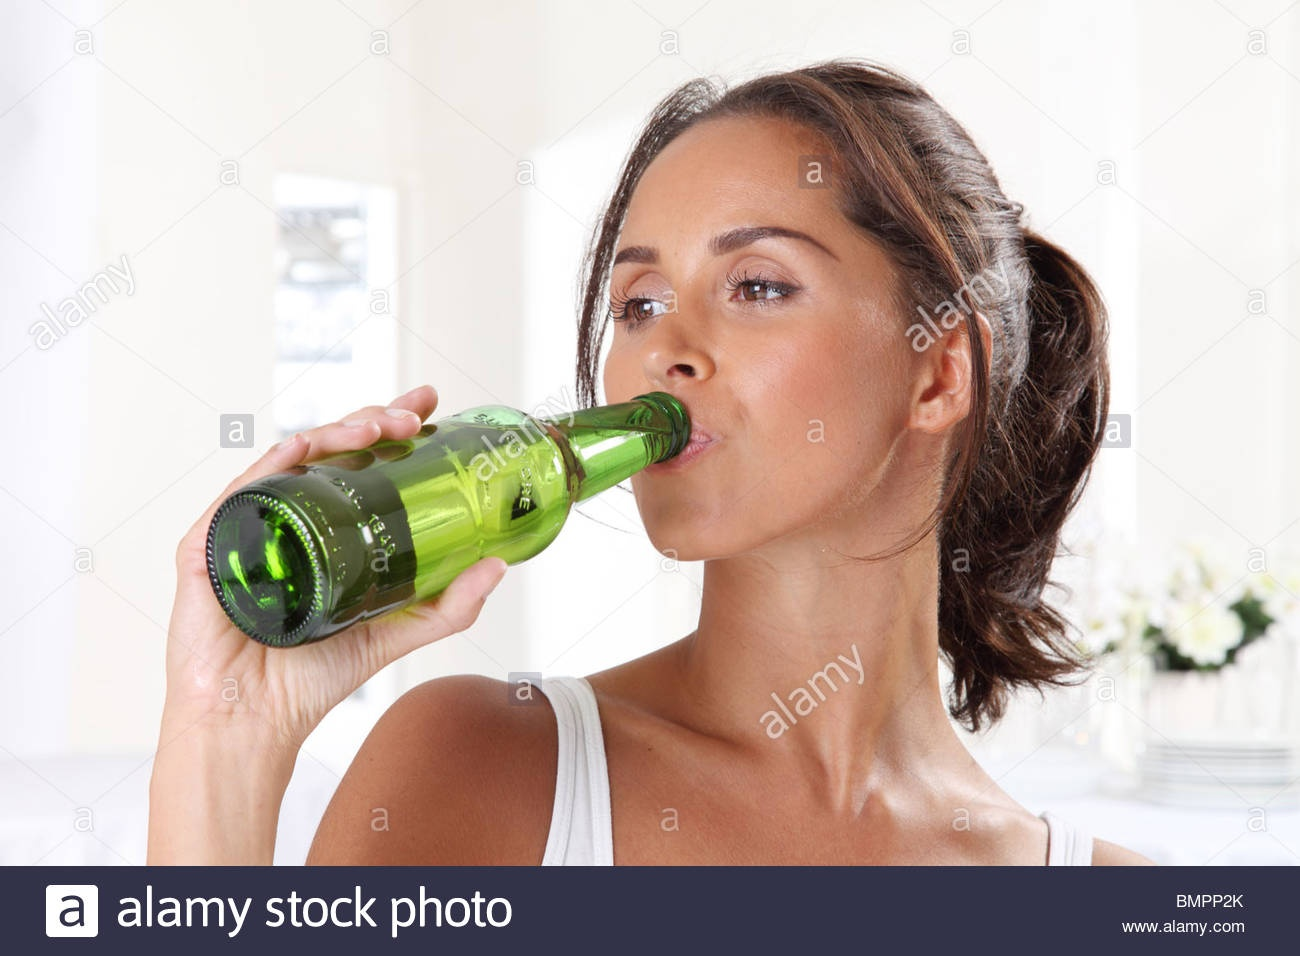beerBottle: (203, 398, 683, 644)
